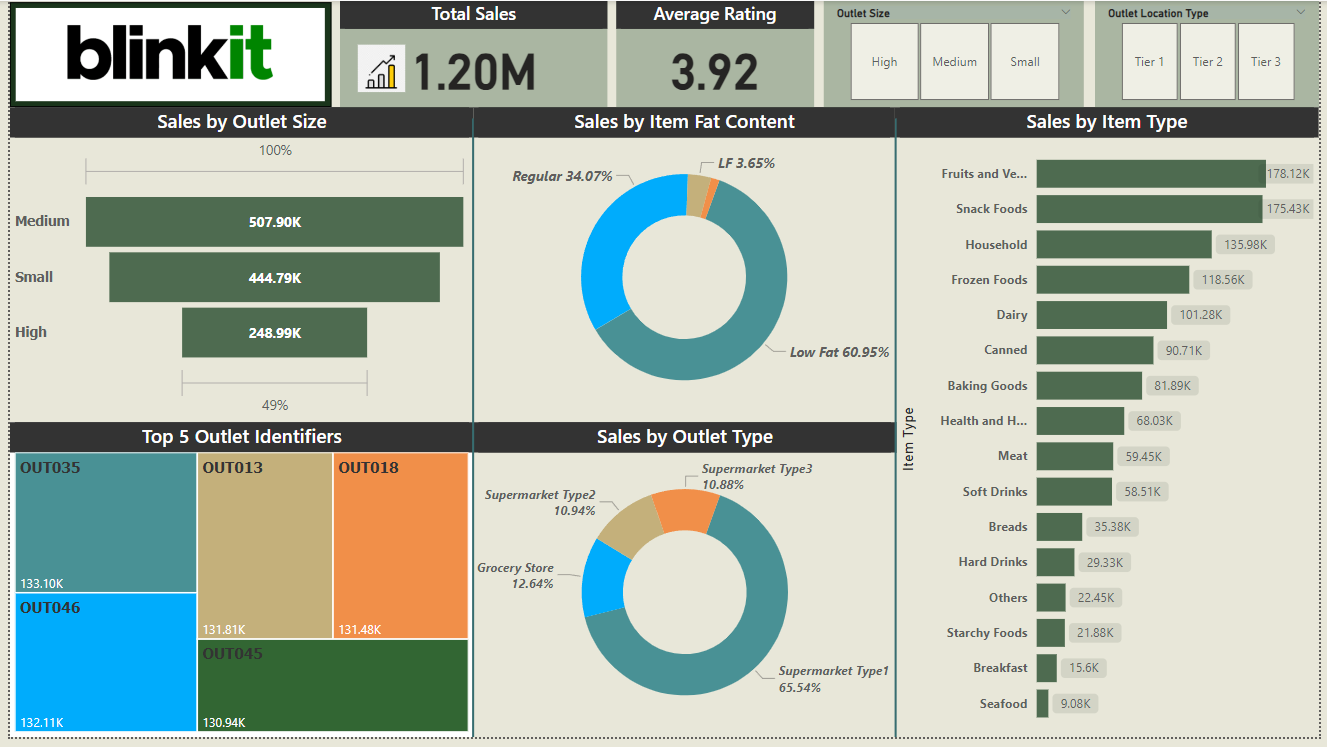

The page's visual inventory and layout, read from the dashboard file:
{"tool":"powerbi","page":{"name":"Sales","canvas":[1280,720],"ordinal":0},"visuals":[{"type":"treemap","title":"Top 5 Outlet Identifiers","fields":{"Group":["BlinkIT Grocery Data.Outlet Identifier"],"Values":["Sum(BlinkIT Grocery Data.Sales)"]},"box":[0,412.1,453.7,308.2],"z":0},{"type":"donutChart","title":"Sales by Outlet Type","fields":{"Y":["Sum(BlinkIT Grocery Data.Sales)"],"Category":["BlinkIT Grocery Data.Outlet Type"]},"box":[453.7,412.1,413.3,308.2],"z":1000},{"type":"funnel","title":"Sales by Outlet Size","fields":{"Category":["BlinkIT Grocery Data.Outlet Size"],"Y":["Sum(BlinkIT Grocery Data.Sales)"]},"box":[0,103.9,453.7,308.2],"z":2000},{"type":"clusteredBarChart","title":"Sales by Item Type","fields":{"Category":["BlinkIT Grocery Data.Item Type"],"Y":["Sum(BlinkIT Grocery Data.Sales)"]},"box":[865.8,103.9,414.5,616.3],"z":3000},{"type":"shape","box":[435.3,114.9,35.5,605.3],"z":4000},{"type":"shape","box":[848.6,114.7,35.5,605.3],"z":5000},{"type":"donutChart","title":"Sales by Item Fat Content","fields":{"Category":["BlinkIT Grocery Data.Item Fat Content"],"Y":["Sum(BlinkIT Grocery Data.Sales)"]},"box":[453.7,103.9,412.1,308.2],"z":6000},{"type":"card","title":"Total Sales","fields":{"Values":["BlinkIT Grocery Data.revenue"]},"box":[322.8,0,261.7,103.9],"z":7000},{"type":"card","title":"Average Rating","fields":{"Values":["BlinkIT Grocery Data.average rating"]},"box":[593.1,0,193.2,103.9],"z":8000},{"type":"image","box":[0,1.2,314.3,102.7],"z":9000},{"type":"image","box":[333.8,37.9,59.9,56.3],"z":10000},{"type":"slicer","fields":{"Values":["BlinkIT Grocery Data.Outlet Size"]},"box":[796.1,0,254.3,103.9],"z":11000},{"type":"slicer","fields":{"Values":["BlinkIT Grocery Data.Outlet Location Type"]},"box":[1061.4,0,218.9,103.9],"z":12000}]}

Visuals, with their boxes in screenshot pixels (x1, y1, x2, y2), scaled from the page's 1280x720 canvas onto the 1327x747 screenshot:
"Top 5 Outlet Identifiers" treemap: 0 428 470 746
"Sales by Outlet Type" donutChart: 470 428 899 746
"Sales by Outlet Size" funnel: 0 108 470 428
"Sales by Item Type" clusteredBarChart: 898 108 1326 746
shape: 451 119 488 746
shape: 880 119 917 746
"Sales by Item Fat Content" donutChart: 470 108 898 428
"Total Sales" card: 335 0 606 108
"Average Rating" card: 615 0 815 108
image: 0 1 326 108
image: 346 39 408 98
slicer - BlinkIT Grocery Data.Outlet Size: 825 0 1089 108
slicer - BlinkIT Grocery Data.Outlet Location Type: 1100 0 1326 108
